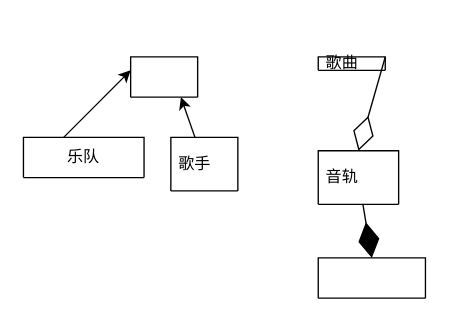
The diagram is 449 pixels wide and 322 high, and some of its shapes have lost their labels. Here are the shapes that lost their labels. From the top down, the centre of each, then its label:
At [163,76]: "艺术家".
At [371,277]: "照片".
